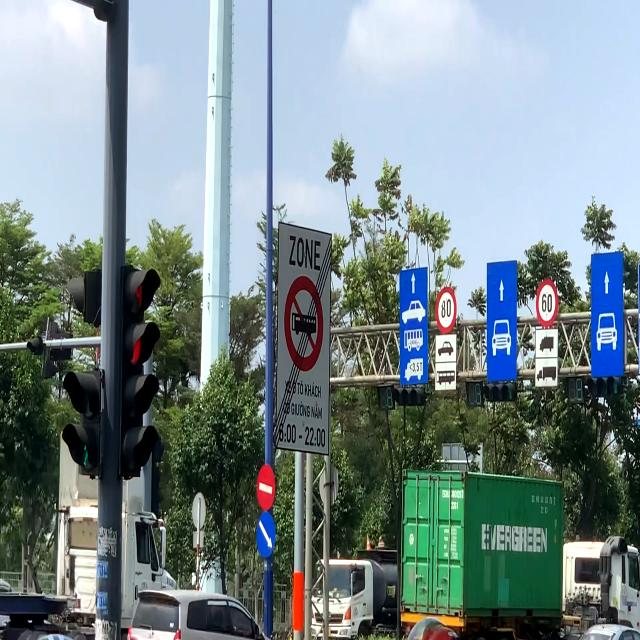P.102: (256, 464, 276, 511)
P.127: (536, 278, 558, 328), (435, 286, 457, 335)
R.302a: (256, 510, 276, 559)
